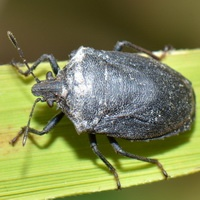insect: (7, 32, 195, 187)
